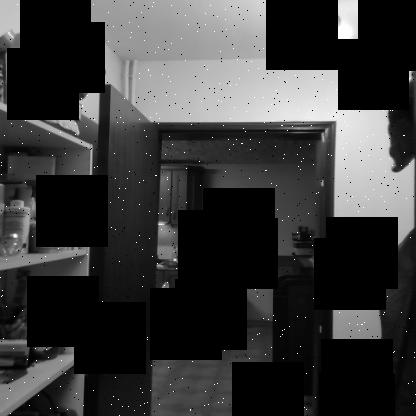Porte: (84, 84, 337, 415)
